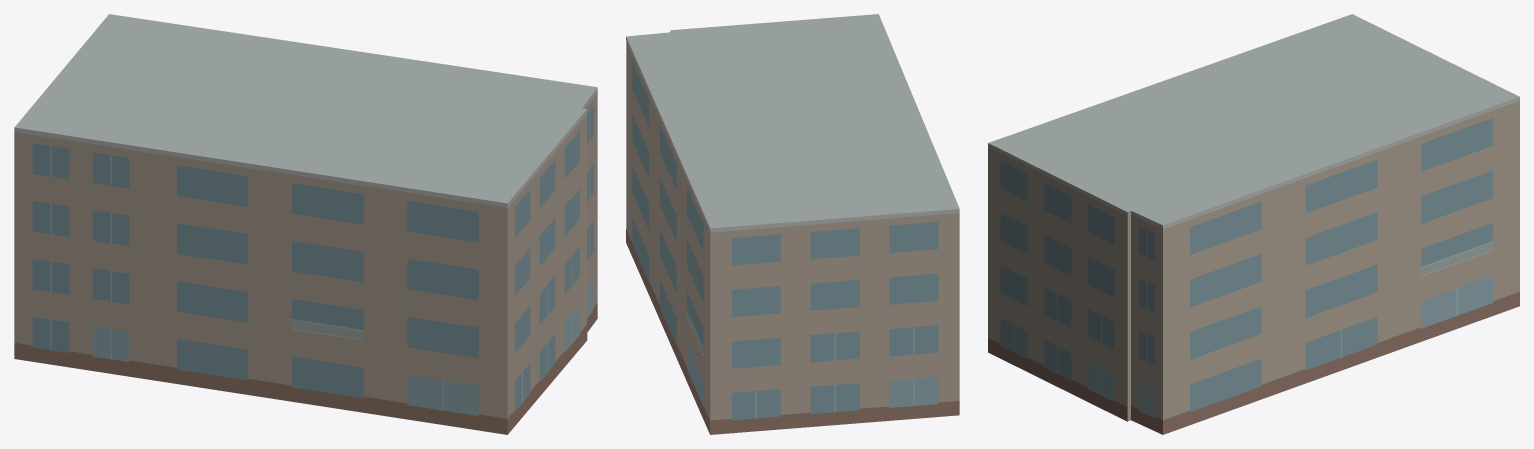
The model's file is survey-upis-33005053.glb.
3 views of the same model, side by side, from view 1: azimuth 30°, elevation 25°; view 2: azimuth 150°, elevation 25°; view 3: azimuth 270°, elevation 25° (orthographic). The views are drawn at different scales.
Visible parts, largest first — view 1: survey-upis-33005053.tmp; view 2: survey-upis-33005053.tmp; view 3: survey-upis-33005053.tmp.
Boxes of the visible parts, box(x1,y1,x2,y2) form: survey-upis-33005053.tmp: box(14, 14, 597, 434); survey-upis-33005053.tmp: box(626, 14, 959, 434); survey-upis-33005053.tmp: box(988, 14, 1519, 434).
Bounding box in the file's own units: 26.41 × 12.2 × 28.07.
